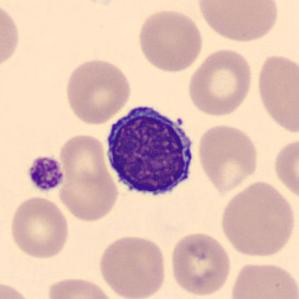Lymphocyte: (100, 98, 200, 203)
Platelets: (25, 153, 66, 194)
RBC: (218, 178, 298, 260), (56, 131, 120, 224), (185, 47, 255, 118), (62, 56, 133, 125), (96, 232, 169, 299), (195, 121, 261, 194), (135, 7, 206, 74), (7, 194, 72, 260), (168, 230, 232, 297), (253, 50, 298, 137), (194, 0, 280, 43), (228, 258, 298, 299), (270, 135, 299, 202), (45, 275, 117, 299), (0, 0, 22, 72), (0, 279, 36, 299)
